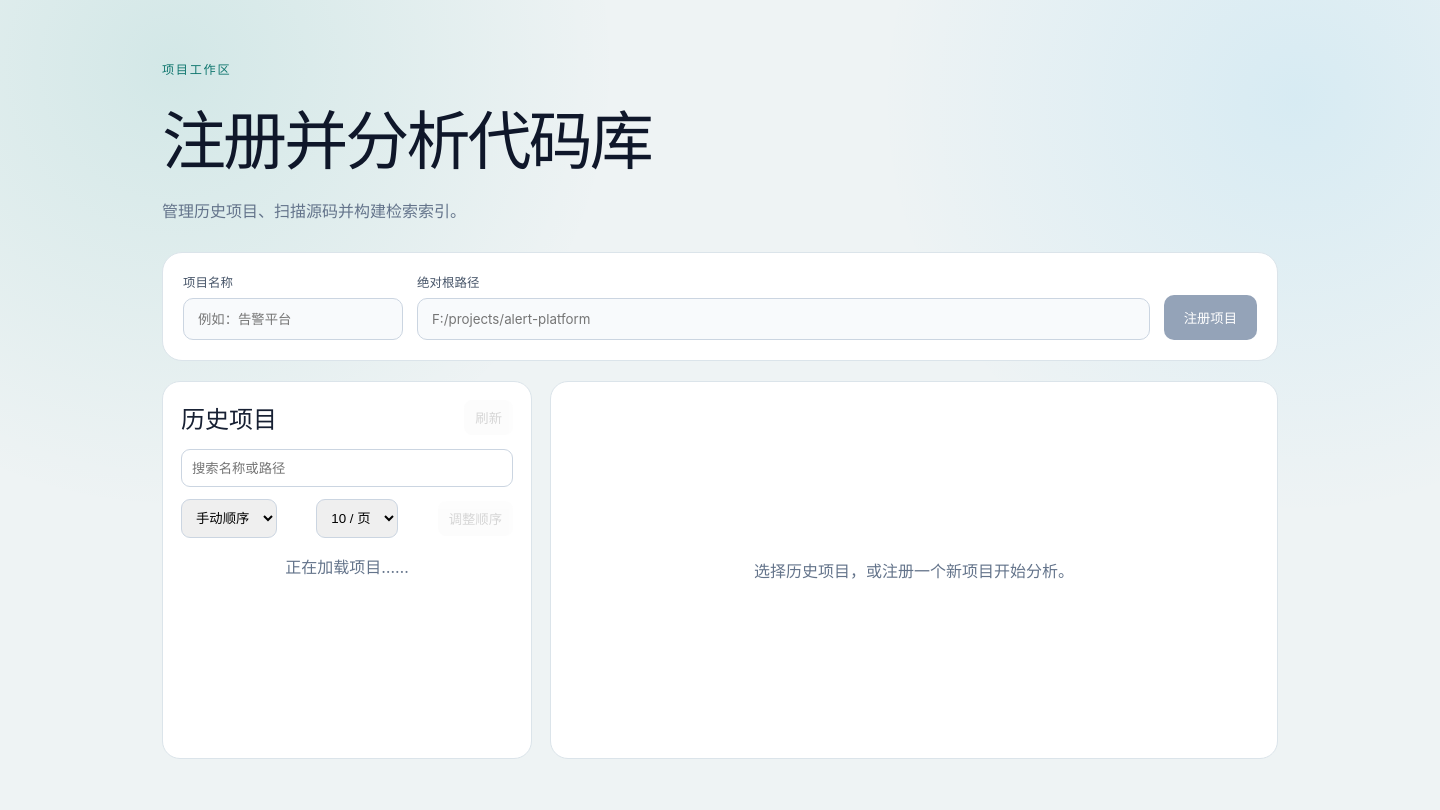
Test case: ProjectView › scans the project and refreshes its statistics
Type "Demo" into the field with test id "project-name" at (293, 319), box [183,298,403,340]
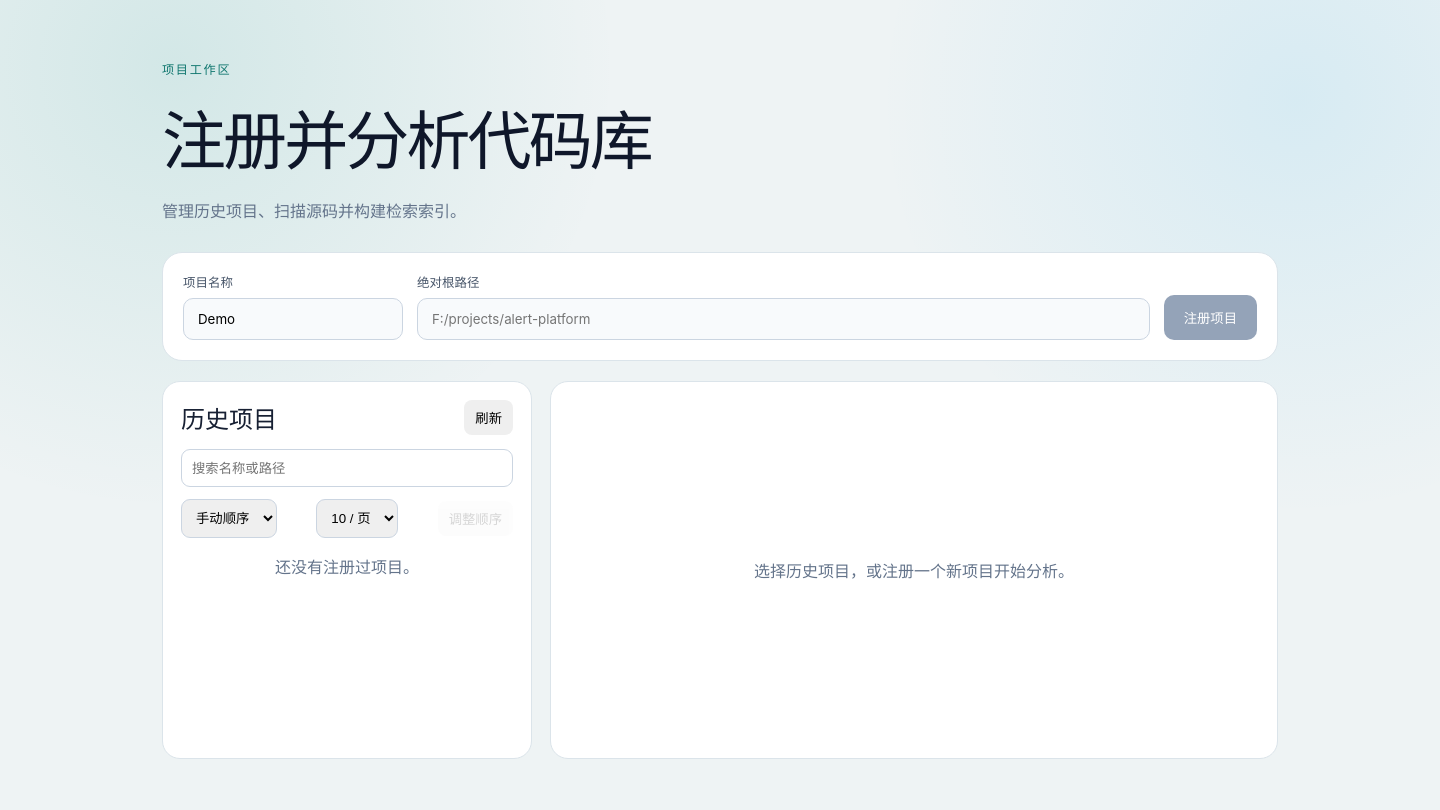
Type "F:/demo" into the field with test id "root-path" at (783, 319), box [417,298,1150,340]
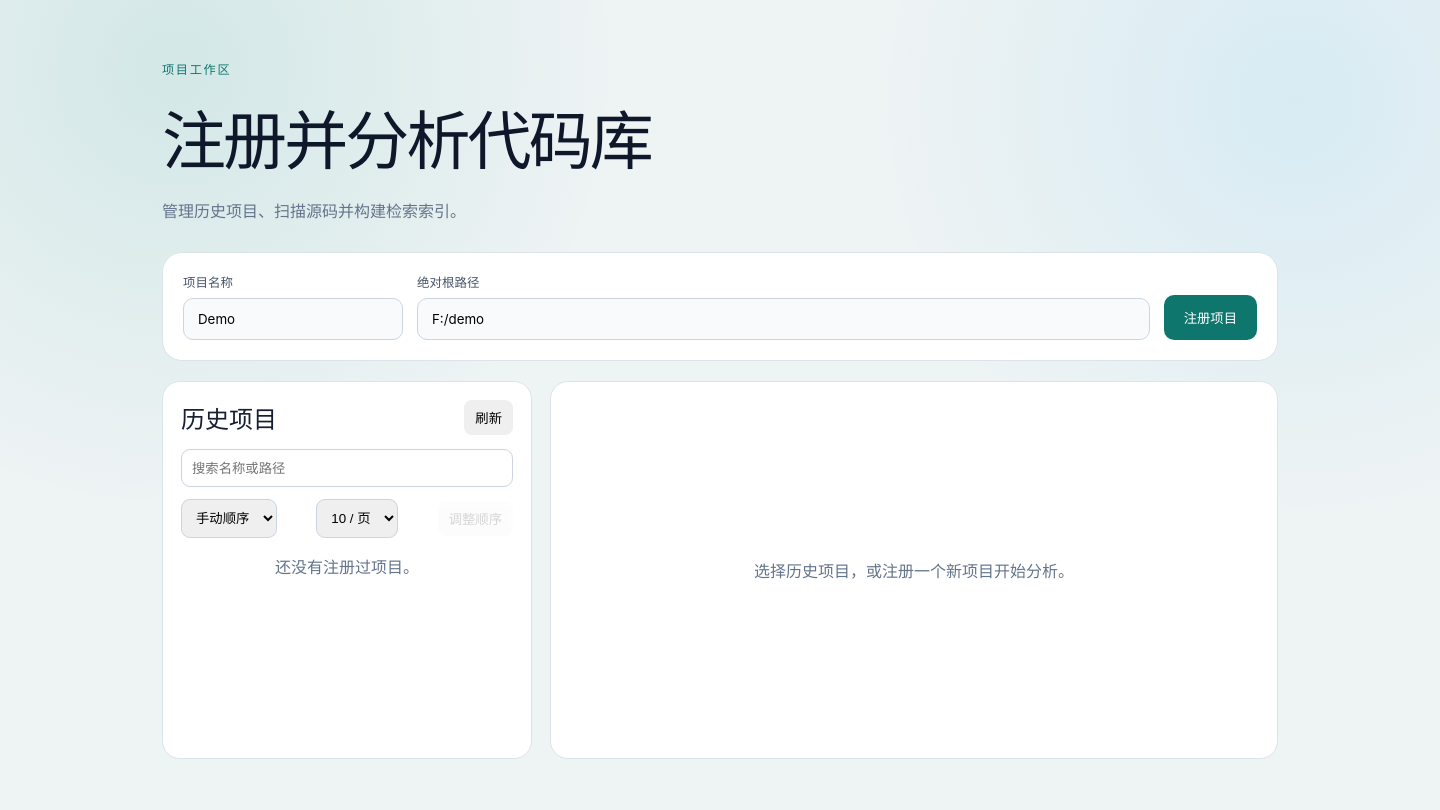
Submit the form with test id "register-form", box [183,273,1257,340]
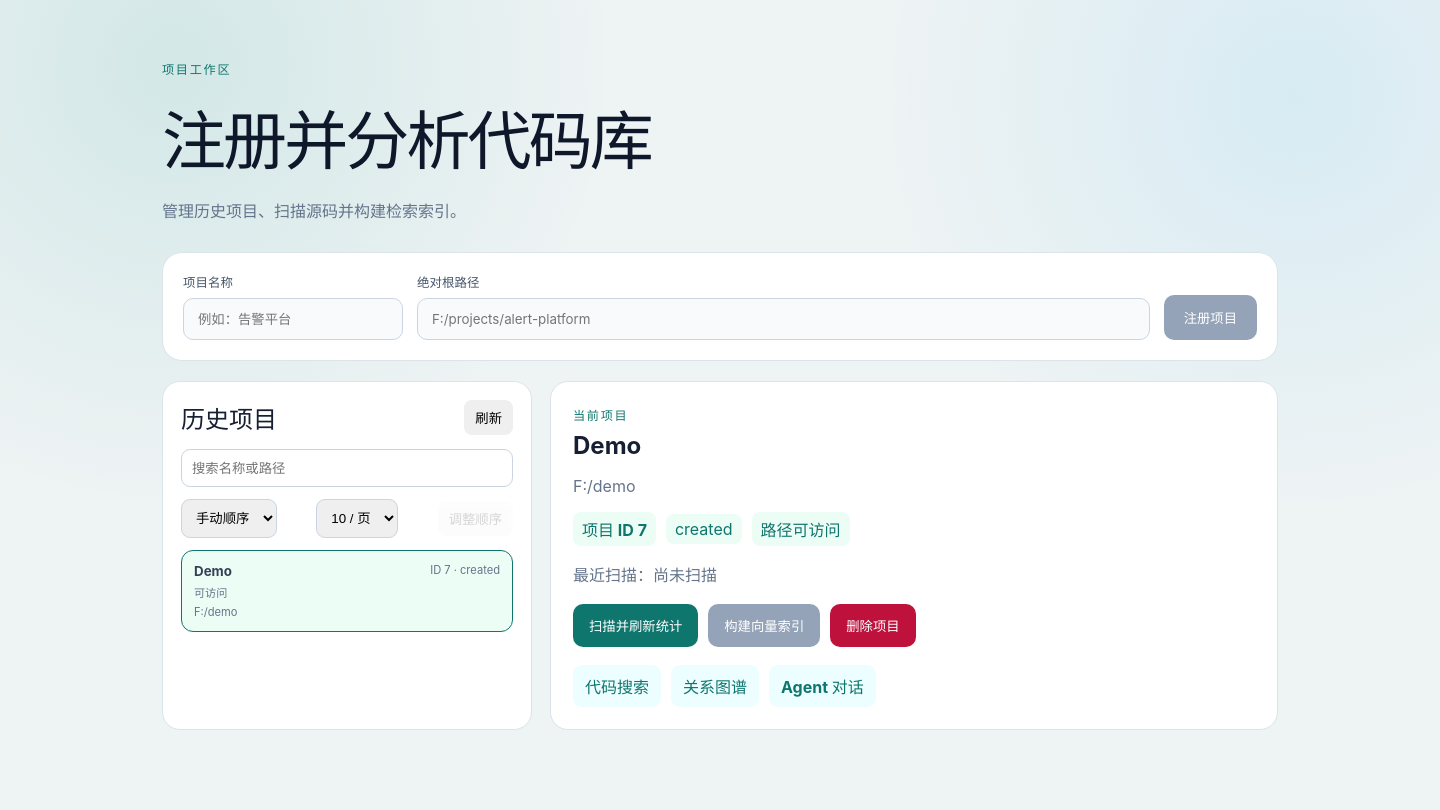
Click the button with test id "scan" at (636, 626), box [573,604,698,647]
(page scrolled)
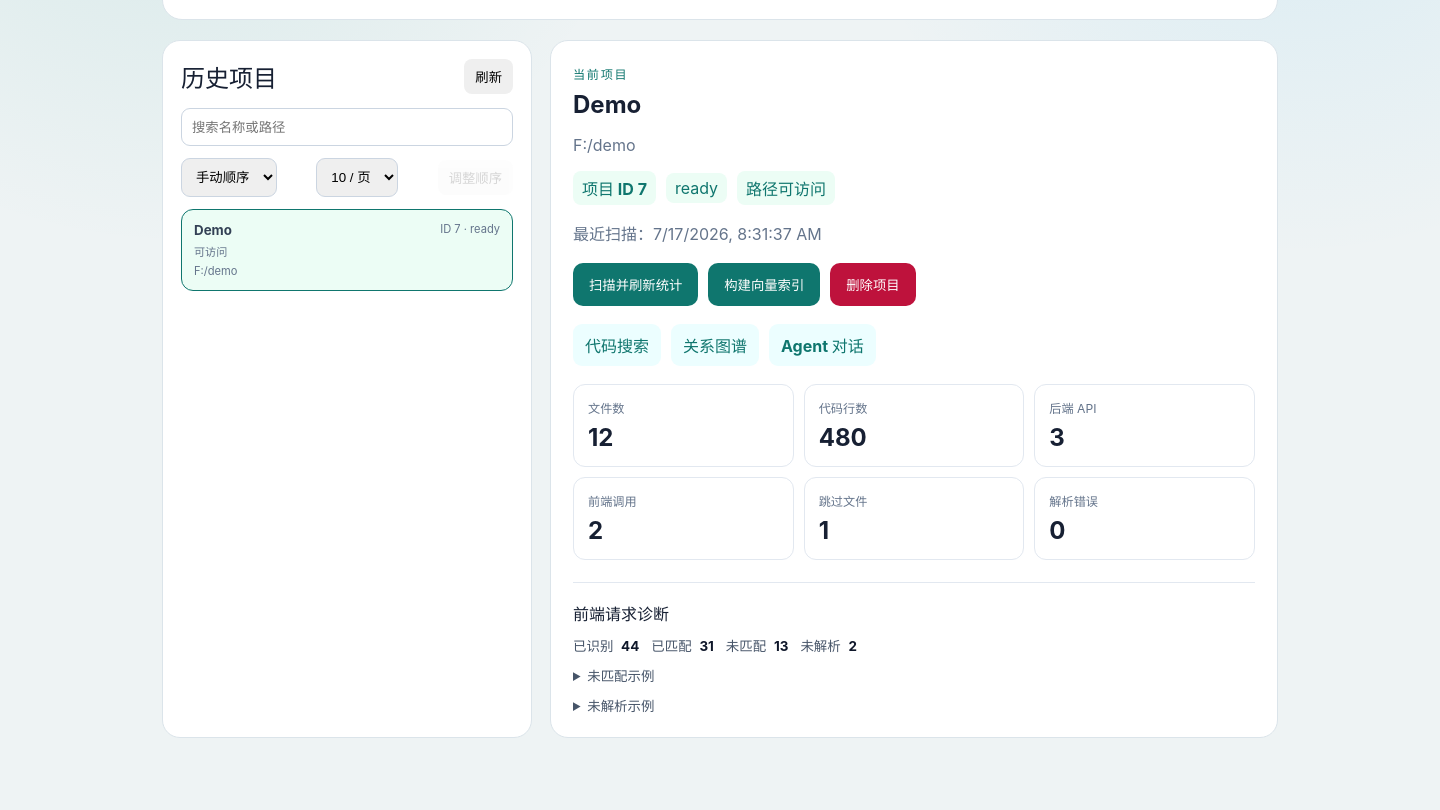
Expected: the element with test id "stats" shows "12", [588,423,614,452]
Expected: the element with test id "stats" shows "480", [819,423,867,452]
Expected: the element with test id "stats" shows "3", [1049,423,1065,452]
